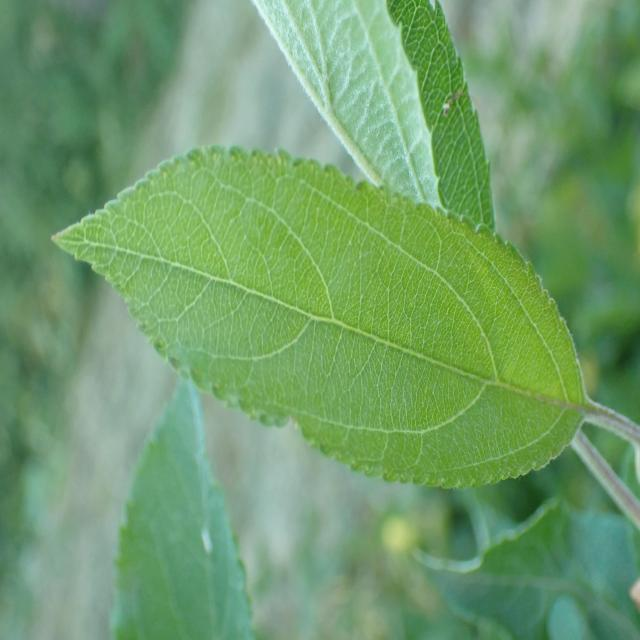healthy: (50, 144, 584, 490), (251, 0, 495, 233)
